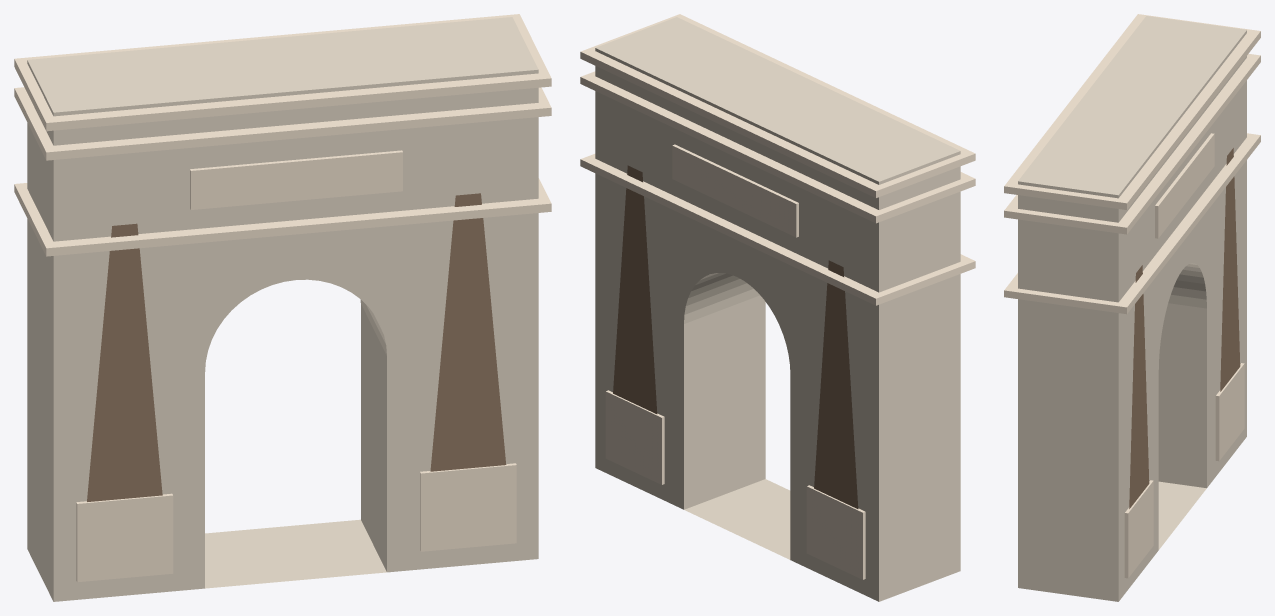
3 renders of one model, left to right at view 1: azimuth 30°, elevation 25°; view 2: azimuth 150°, elevation 25°; view 3: azimuth 270°, elevation 25°, orthographic. The views are drawn at different scales.
Parts seen in each view (by area): view 1: stone, trim, metal; view 2: stone, trim, metal; view 3: stone, trim, metal.
Part boxes in pixels (x1,y1,x2,y2): stone: [27, 17, 538, 601]; trim: [14, 14, 551, 582]; metal: [87, 193, 506, 501]; stone: [595, 17, 960, 601]; trim: [580, 14, 975, 579]; metal: [613, 165, 858, 508]; stone: [1018, 16, 1246, 601]; trim: [1004, 14, 1260, 578]; metal: [1129, 148, 1240, 508].
Size of the model in its own units: 24.96 by 25 by 14.3.
